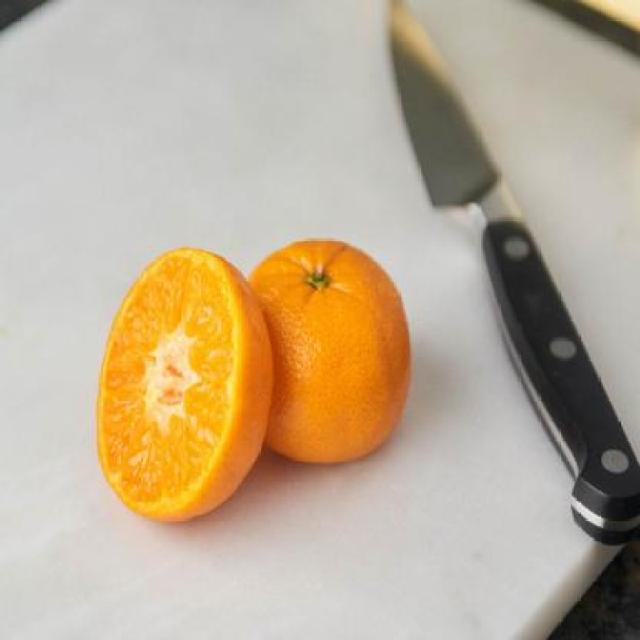Orange: (94, 245, 274, 523), (246, 236, 412, 464)
